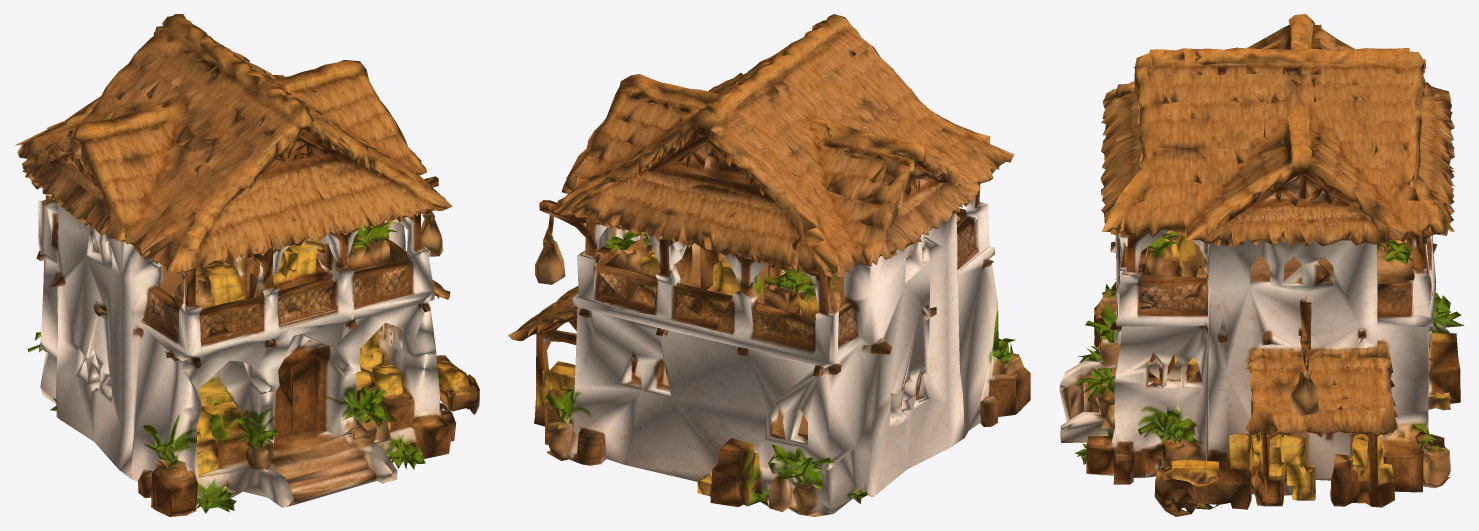
The picture shows the model from 3 angles, left to right: view 1: azimuth 30°, elevation 25°; view 2: azimuth 150°, elevation 25°; view 3: azimuth 270°, elevation 25°; orthographic projection. The views are drawn at different scales.
Visible parts, largest first — view 1: Mesh_0; view 2: Mesh_0; view 3: Mesh_0.
Part boxes in pixels (bbox=[...]): Mesh_0: bbox=[14, 14, 479, 516]; Mesh_0: bbox=[508, 14, 1030, 516]; Mesh_0: bbox=[1059, 14, 1463, 516].
Size of the model in its own units: 8.82 by 8 by 7.82.
1 material, 1 textured.
